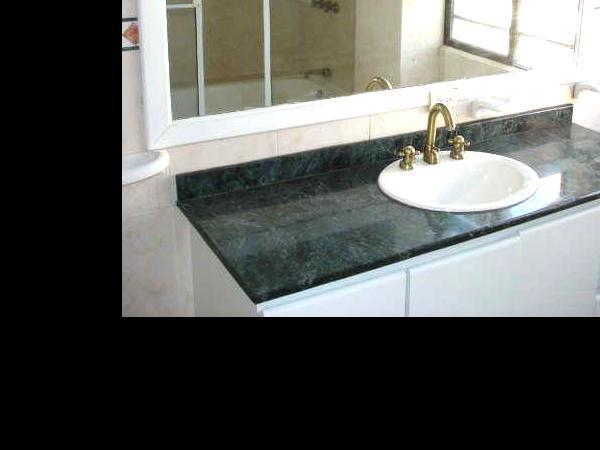Lavamanos: (378, 97, 545, 215)
